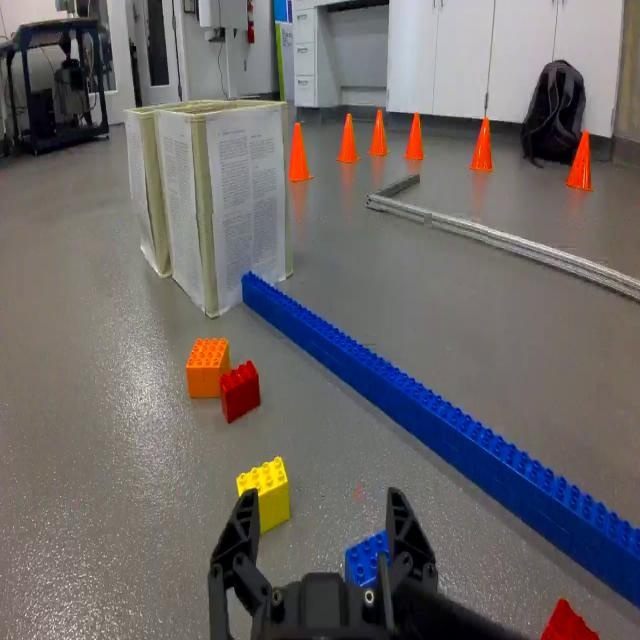block: (236, 455, 290, 537)
blue: (345, 528, 393, 590)
cone: (564, 130, 594, 192), (469, 115, 494, 173), (289, 124, 312, 184), (335, 112, 361, 164), (402, 114, 428, 161), (368, 111, 390, 158)
metal barrier: (366, 173, 640, 304)
orange: (187, 338, 230, 400)
red goal: (541, 596, 605, 640), (220, 359, 261, 425)
river: (240, 270, 640, 613)
storage cube: (151, 97, 296, 321), (123, 98, 231, 281)
